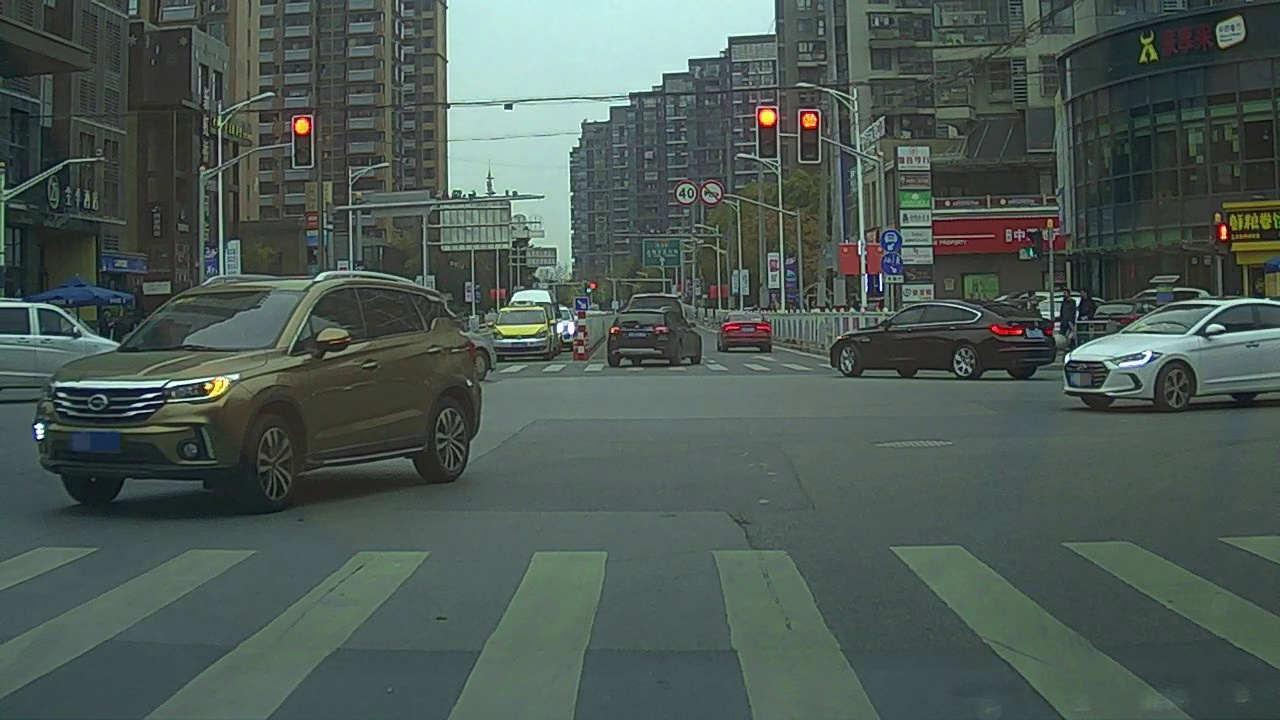traffic_light: (292, 117, 311, 165), (801, 110, 818, 163), (758, 107, 774, 160)
